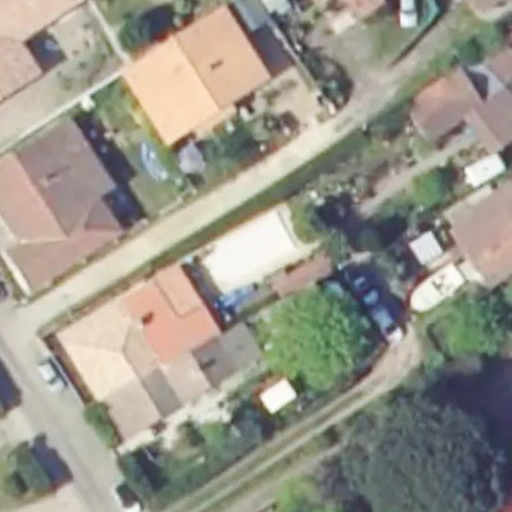pool: (201, 211, 299, 294)
